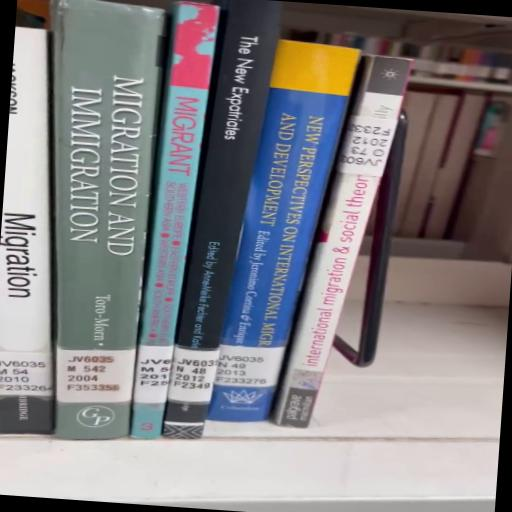reverse: (274, 56, 412, 429)
